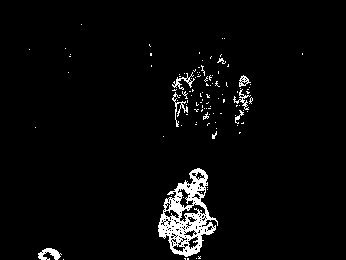person: (160, 167, 221, 260), (171, 68, 190, 129)
